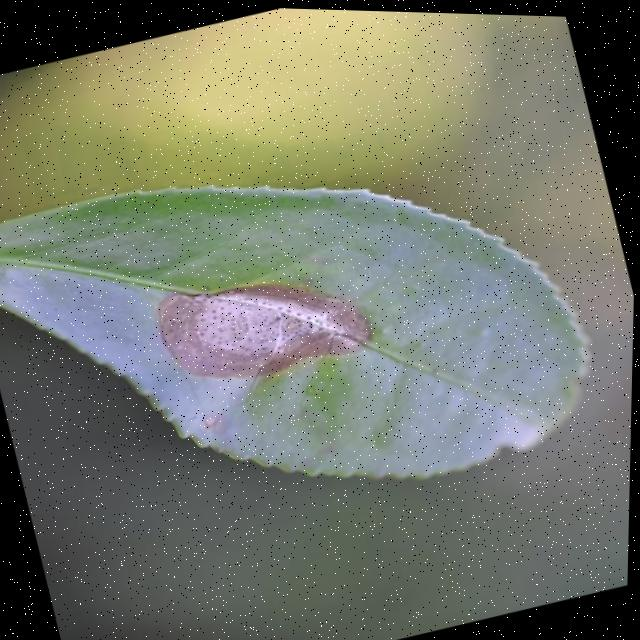Tea cloud leaf blight: (146, 243, 383, 408)
